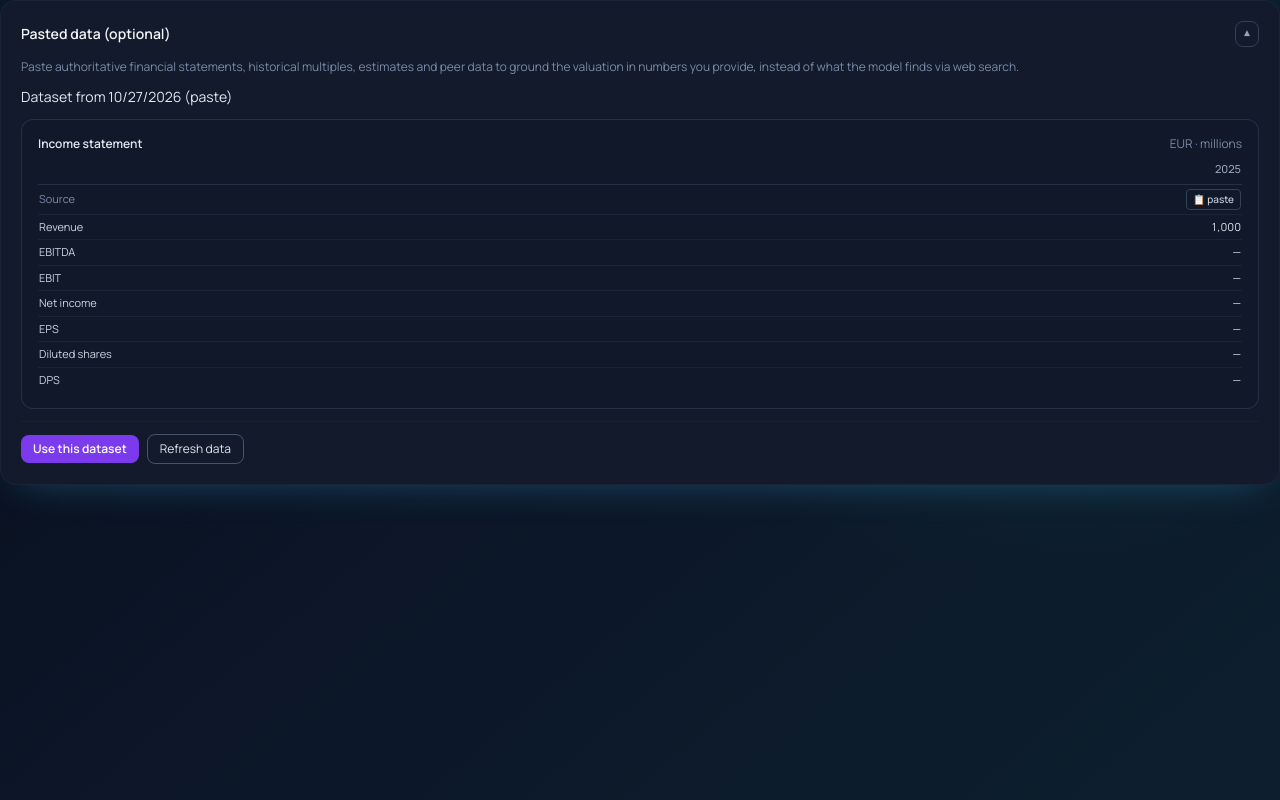
Scenario: DatasetSection › keeps an unsaved draft on Refresh data, and says so
This screenshot has width=1280, height=800.
Click the button "Refresh data": (195, 449) [147,434,244,464]
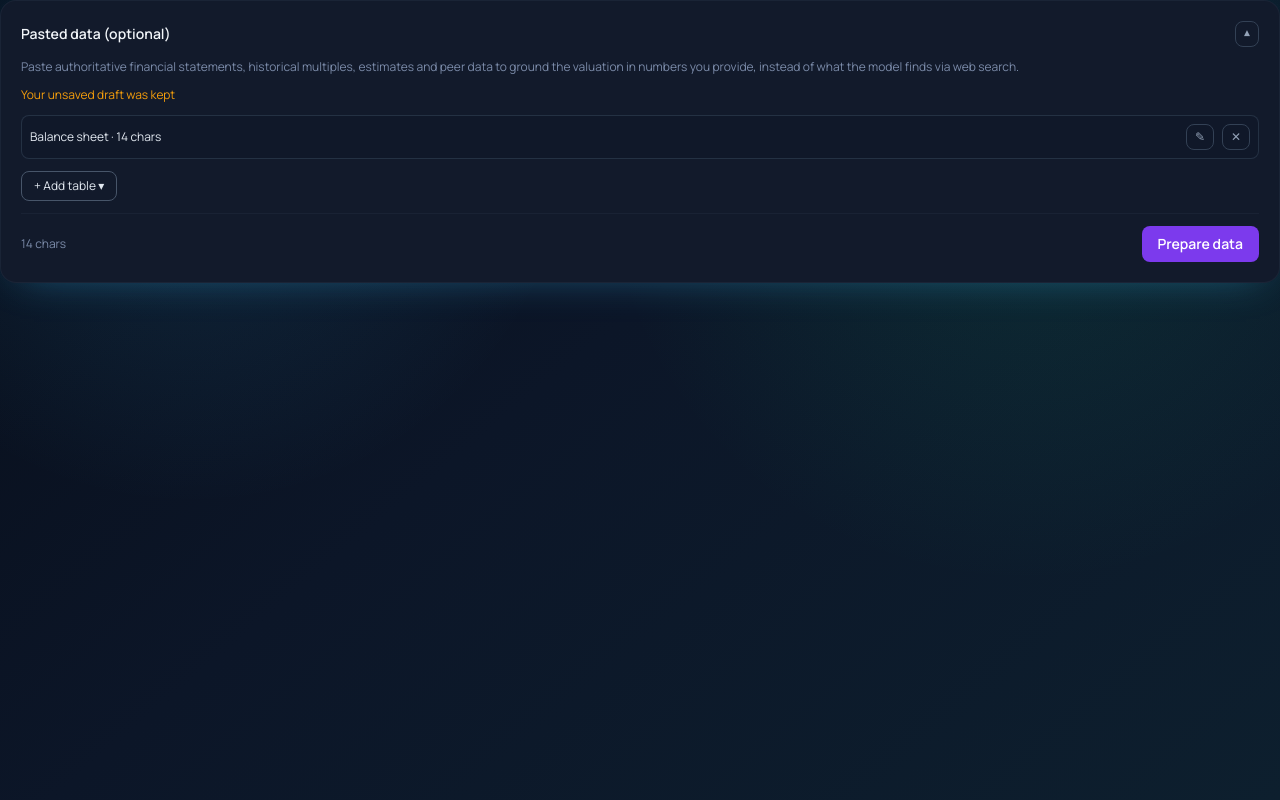
expect the text "Your unsaved draft was kept" is shown: met, box [21,86,175,103]
expect the button "Balance sheet · 14 chars" is shown: met, box [30,129,1178,145]
